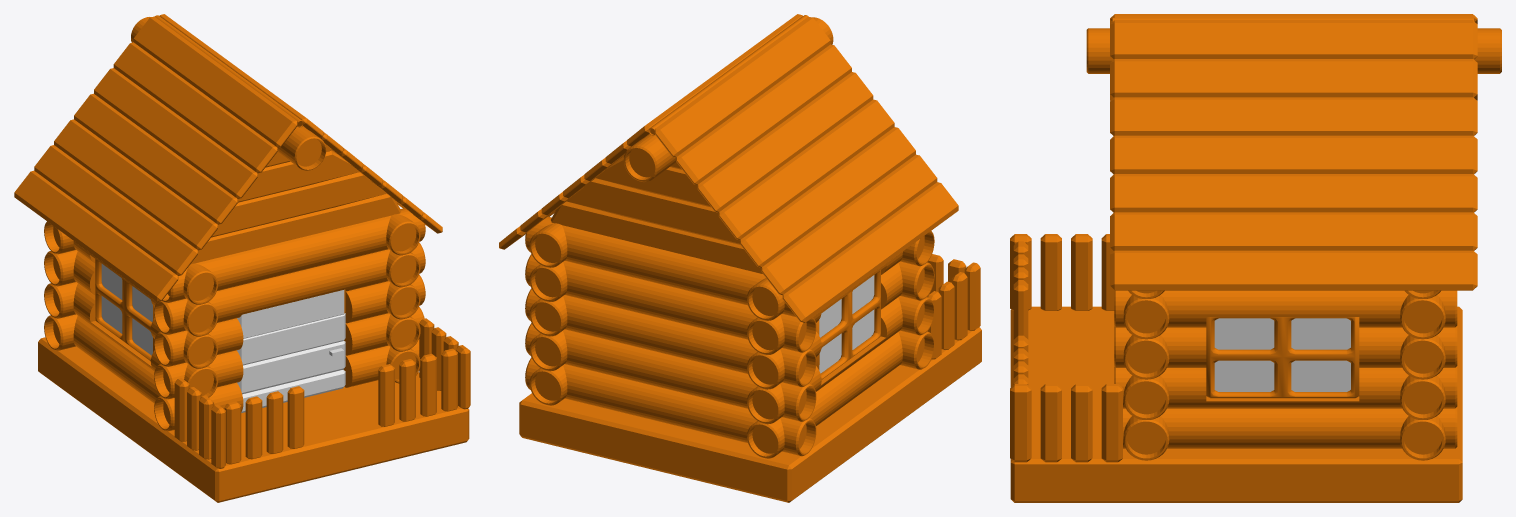
The picture shows the model from 3 angles, left to right: view 1: azimuth 30°, elevation 25°; view 2: azimuth 150°, elevation 25°; view 3: azimuth 270°, elevation 25°; orthographic projection. The views are drawn at different scales.
Parts seen in each view (by area): view 1: Cube.005; view 2: Cube.005; view 3: Cube.005.
Boxes of the visible parts, x1,y1,x2,y2 form: Cube.005: [14, 14, 470, 502]; Cube.005: [499, 14, 981, 502]; Cube.005: [1010, 14, 1501, 502].
Bounding box in the file's own units: 45.39 × 49.21 × 53.87.
